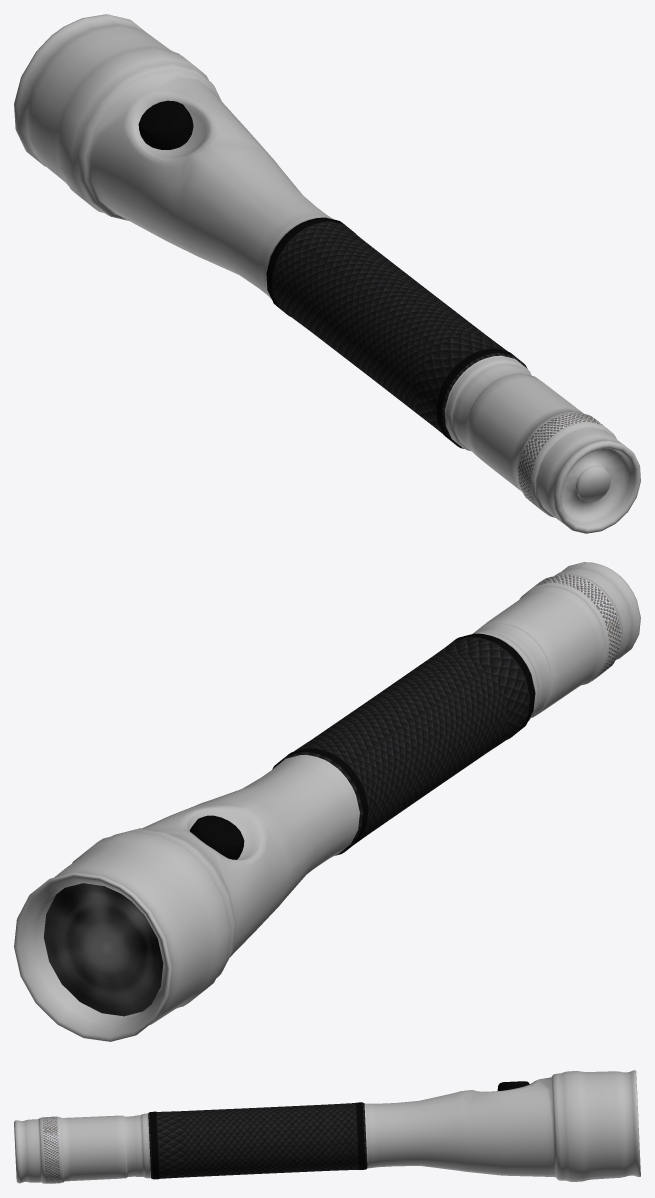
3 renders of one model, top to bottom at view 1: azimuth 30°, elevation 25°; view 2: azimuth 150°, elevation 25°; view 3: azimuth 270°, elevation 25°, orthographic. The views are drawn at different scales.
Parts seen in each view (by area): view 1: Flashlight_01 - Default_0, Flashlight_03 - Default_0, Button, Flashlight_07 - Default_0, Flashlight_02 - Default_0; view 2: Flashlight_01 - Default_0, Flashlight_03 - Default_0, Light_09 - Default_0, Flashlight_07 - Default_0, Flashlight_02 - Default_0, Button; view 3: Flashlight_01 - Default_0, Flashlight_03 - Default_0, Flashlight_07 - Default_0, Flashlight_02 - Default_0, Button.
Part boxes in pixels (x1,y1,x2,y2): Flashlight_01 - Default_0: (14, 14, 640, 533); Flashlight_03 - Default_0: (266, 218, 527, 448); Button: (138, 100, 193, 149); Flashlight_07 - Default_0: (518, 412, 609, 513); Flashlight_02 - Default_0: (266, 217, 523, 446); Flashlight_01 - Default_0: (14, 562, 640, 1041); Flashlight_03 - Default_0: (272, 637, 535, 855); Light_09 - Default_0: (43, 883, 163, 1016); Flashlight_07 - Default_0: (534, 574, 621, 682); Flashlight_02 - Default_0: (287, 633, 535, 853); Button: (189, 815, 244, 859); Flashlight_01 - Default_0: (14, 1070, 640, 1183); Flashlight_03 - Default_0: (148, 1103, 367, 1178); Flashlight_07 - Default_0: (42, 1116, 60, 1183); Flashlight_02 - Default_0: (150, 1102, 365, 1179); Button: (497, 1081, 529, 1090).
Bounding box in the file's own units: 150 × 151 × 852.
6 materials, 4 textured.
